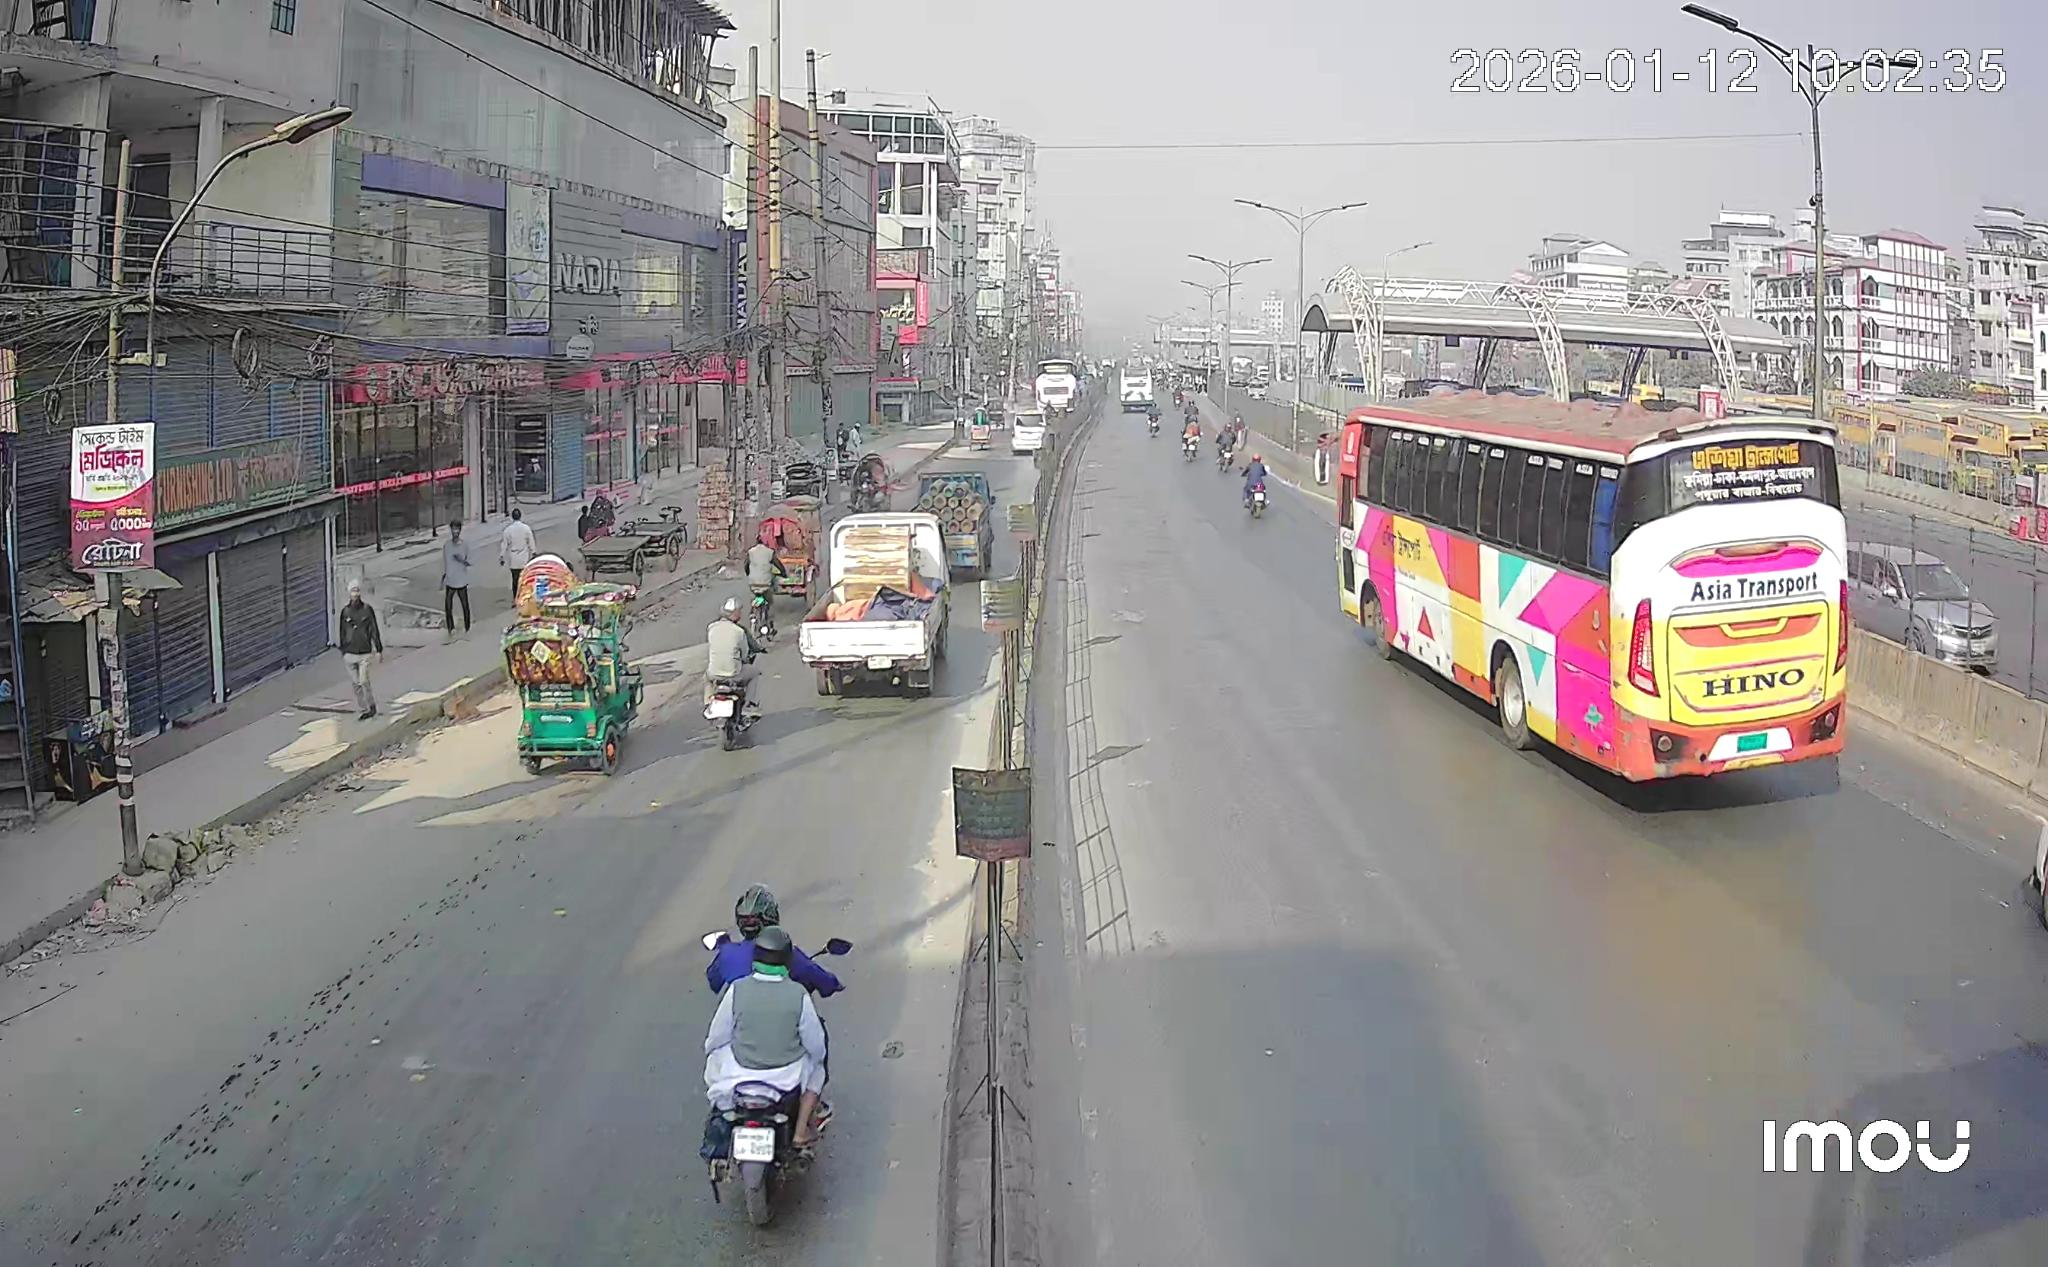Auto Rickshaw: (502, 584, 645, 774), (758, 496, 821, 603)
Bus: (1336, 395, 1864, 783), (1034, 358, 1080, 417), (1119, 373, 1153, 411)
Jeep-SUV: (1849, 543, 1998, 674), (1009, 411, 1047, 455)
Motorcycle: (704, 887, 841, 1219), (705, 597, 762, 749)
Truck: (797, 511, 951, 695), (911, 471, 996, 576)
